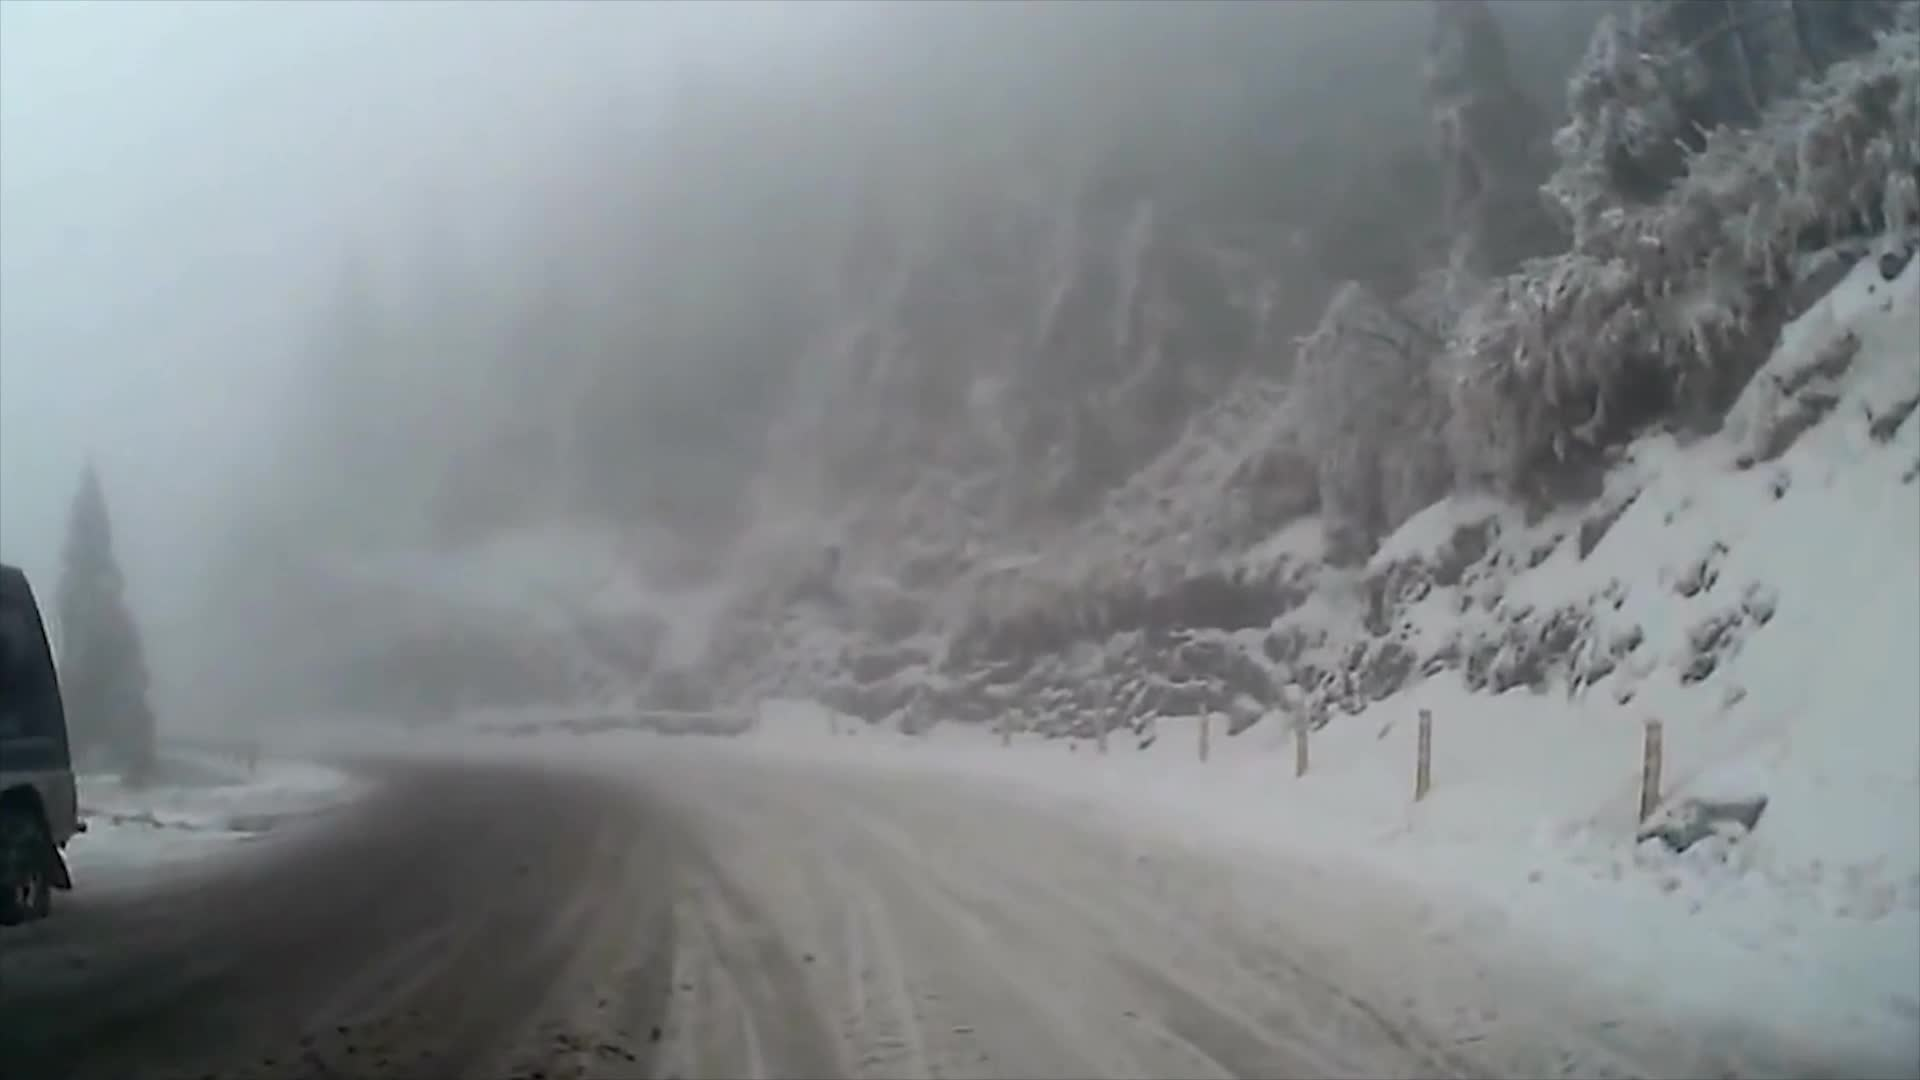vehicle: (0, 555, 88, 939)
